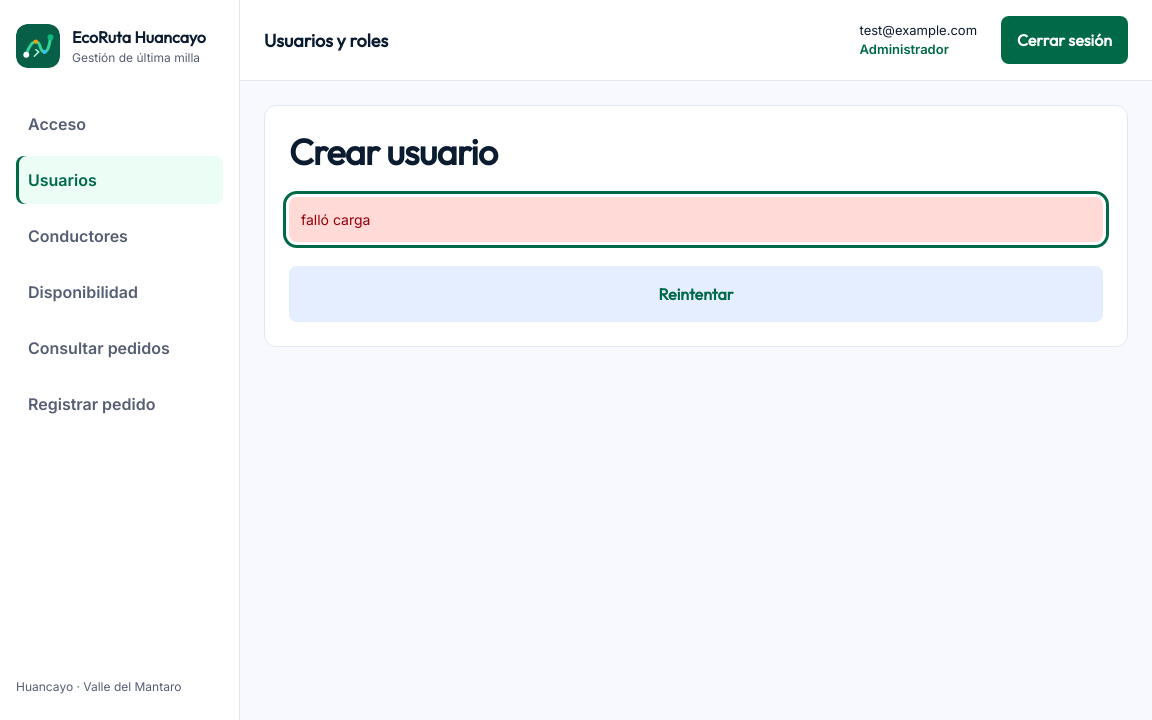
Scenario: US-003 interfaz › carga formulario, maneja ausencia de roles y reintenta error
This screenshot has width=1152, height=720.
Expected: the message reads "falló carga", top-left (301, 211), bottom-right (370, 228)
Click the button "Reintentar".
click(696, 294)  # box top-left (289, 266), bottom-right (1103, 322)
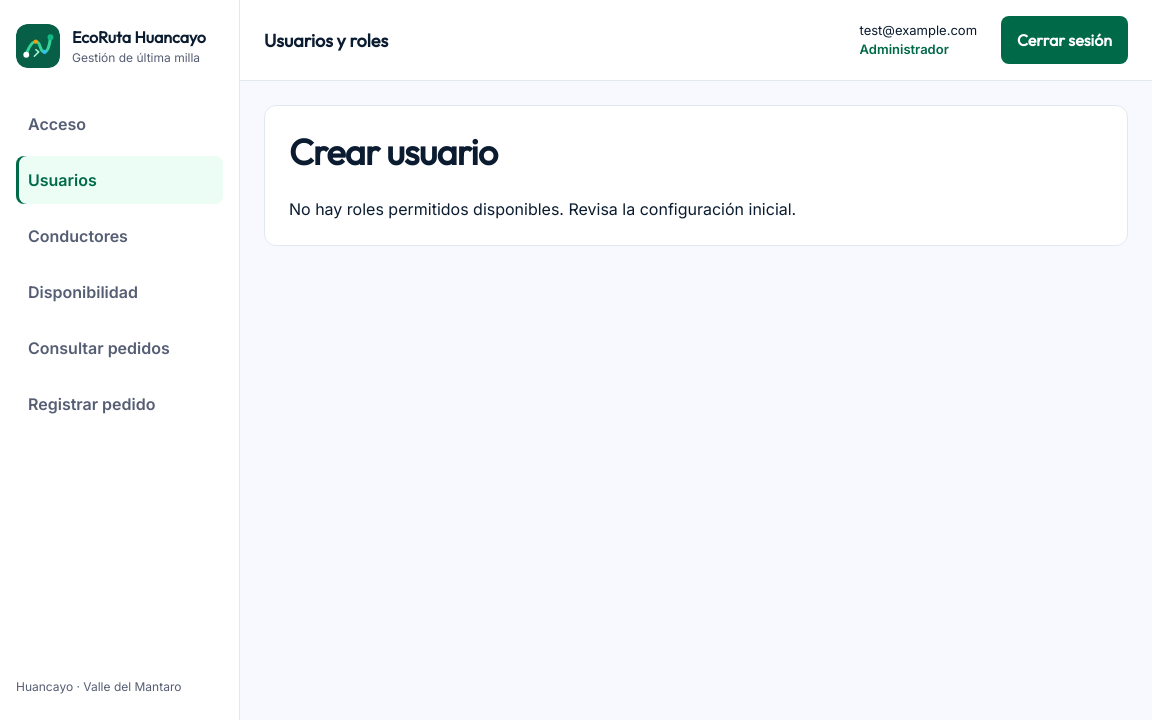
Expected: the text "No hay roles permitidos disponibles. Revisa la configuración inicial." is shown, top-left (289, 199), bottom-right (796, 219)
